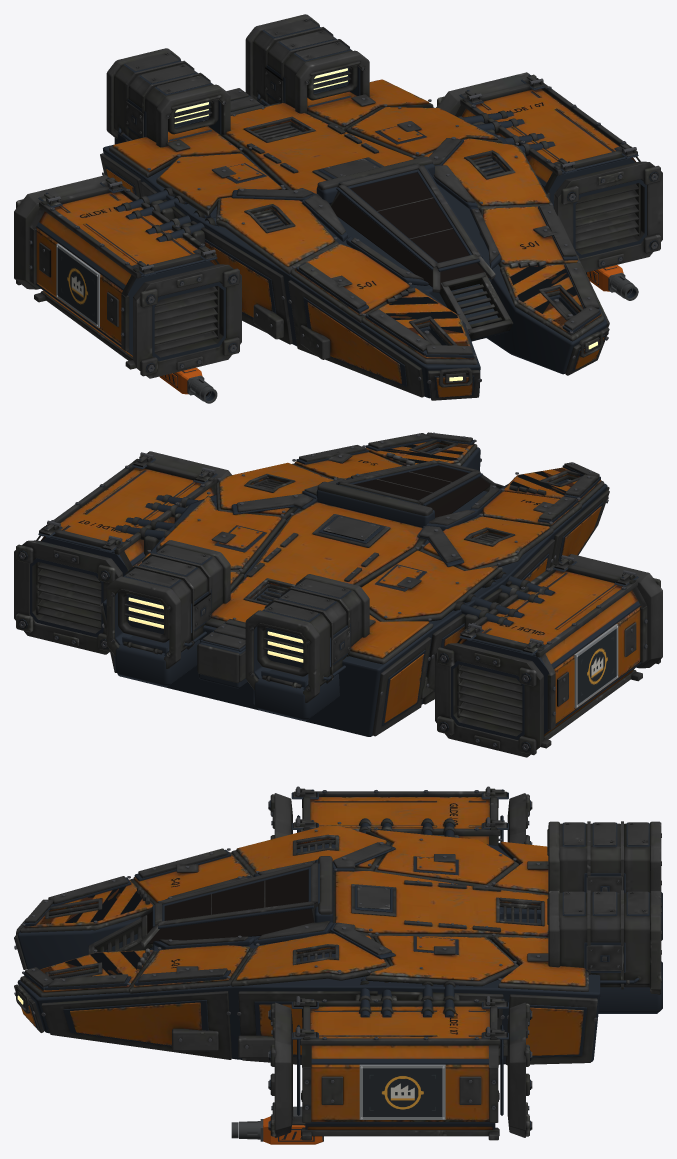
File: saturn-starter.glb
The picture shows the model from 3 angles, top to bottom: view 1: azimuth 30°, elevation 25°; view 2: azimuth 150°, elevation 25°; view 3: azimuth 270°, elevation 25°; orthographic projection.
Parts seen in each view (by area): view 1: Hull_saturn_BrushedAlloy, Hull_saturn_Armor, Generator_Port_Geometry, Hull_saturn_EdgeGuards, Hull_saturn_SmokedOptics, Insignia_ClanSlot_Right, Hull_saturn_Caution, Insignia_Carrier_Left; view 2: Hull_saturn_BrushedAlloy, Hull_saturn_Armor, Generator_Port_Geometry, Hull_saturn_EdgeGuards, Hull_saturn_SmokedOptics, Insignia_ClanSlot_Right, Hull_saturn_Caution, Insignia_Carrier_Left; view 3: Hull_saturn_Armor, Hull_saturn_BrushedAlloy, Generator_Port_Geometry, Hull_saturn_EdgeGuards, Hull_saturn_SmokedOptics, Faction_Insignia_Left, Hull_saturn_Caution, Insignia_Carrier_Left.
Boxes of the visible parts, x1=… form: Hull_saturn_BrushedAlloy: x1=14, y1=18, x2=662, y2=400; Hull_saturn_Armor: x1=36, y1=79, x2=636, y2=397; Generator_Port_Geometry: x1=29, y1=19, x2=658, y2=403; Hull_saturn_EdgeGuards: x1=16, y1=14, x2=660, y2=383; Hull_saturn_SmokedOptics: x1=206, y1=172, x2=630, y2=396; Insignia_ClanSlot_Right: x1=58, y1=248, x2=96, y2=323; Hull_saturn_Caution: x1=357, y1=241, x2=576, y2=342; Insignia_Carrier_Left: x1=56, y1=243, x2=100, y2=327; Hull_saturn_BrushedAlloy: x1=14, y1=432, x2=662, y2=757; Hull_saturn_Armor: x1=40, y1=441, x2=641, y2=735; Generator_Port_Geometry: x1=18, y1=432, x2=647, y2=751; Hull_saturn_EdgeGuards: x1=16, y1=443, x2=660, y2=755; Hull_saturn_SmokedOptics: x1=354, y1=465, x2=489, y2=517; Insignia_ClanSlot_Right: x1=577, y1=628, x2=616, y2=704; Hull_saturn_Caution: x1=358, y1=444, x2=571, y2=504; Insignia_Carrier_Left: x1=574, y1=624, x2=618, y2=708; Hull_saturn_Armor: x1=17, y1=797, x2=585, y2=1129; Hull_saturn_BrushedAlloy: x1=14, y1=791, x2=650, y2=1140; Generator_Port_Geometry: x1=14, y1=786, x2=662, y2=1144; Hull_saturn_EdgeGuards: x1=18, y1=788, x2=661, y2=1136; Hull_saturn_SmokedOptics: x1=147, y1=869, x2=313, y2=944; Faction_Insignia_Left: x1=363, y1=1068, x2=442, y2=1116; Hull_saturn_Caution: x1=49, y1=878, x2=179, y2=976; Insignia_Carrier_Left: x1=359, y1=1064, x2=445, y2=1119.
Bounding box in the file's own units: 7.95 × 2.39 × 8.33.
12 materials, 10 textured.
